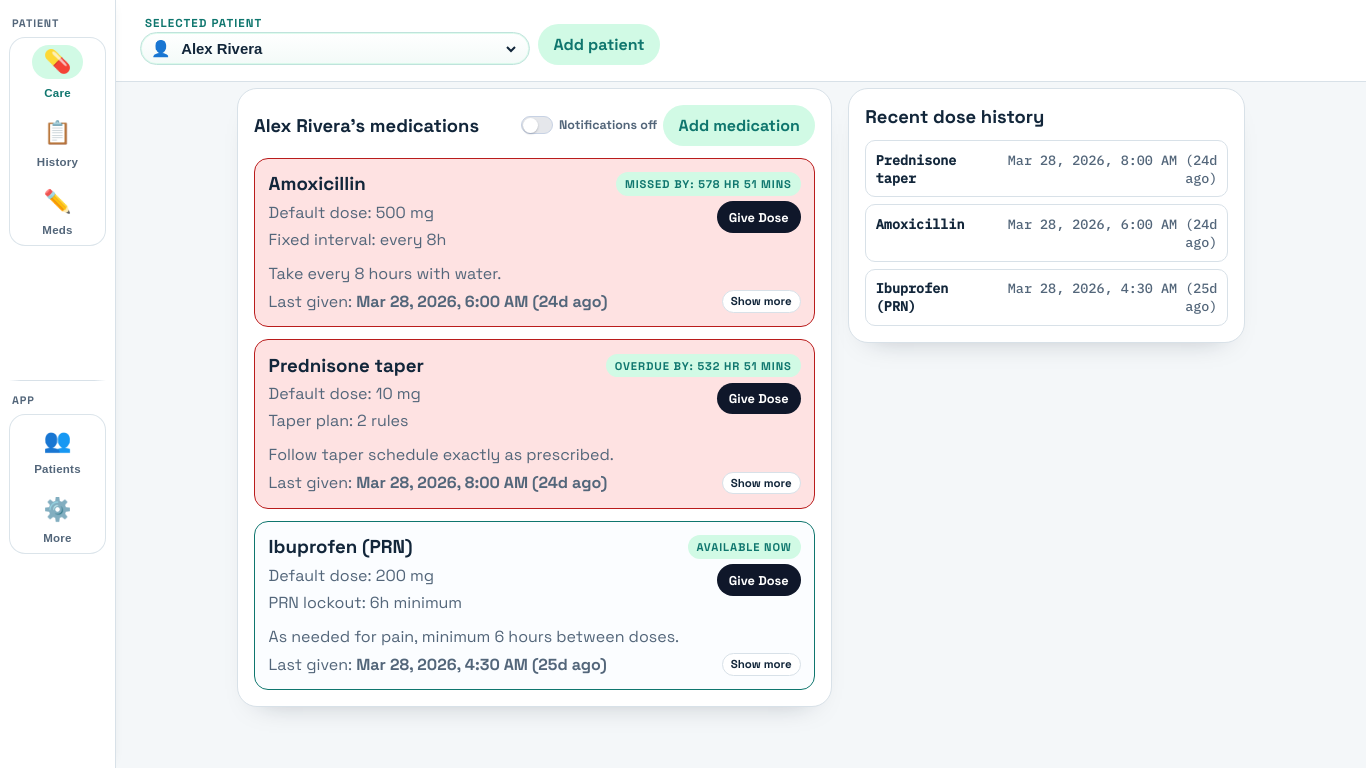
Scenario: App workspace mode flow › shows session activity and signs out other devices from More view
Click the button with test id "tab-more": (58, 518) top-left (12, 486), bottom-right (103, 551)
(page scrolled)
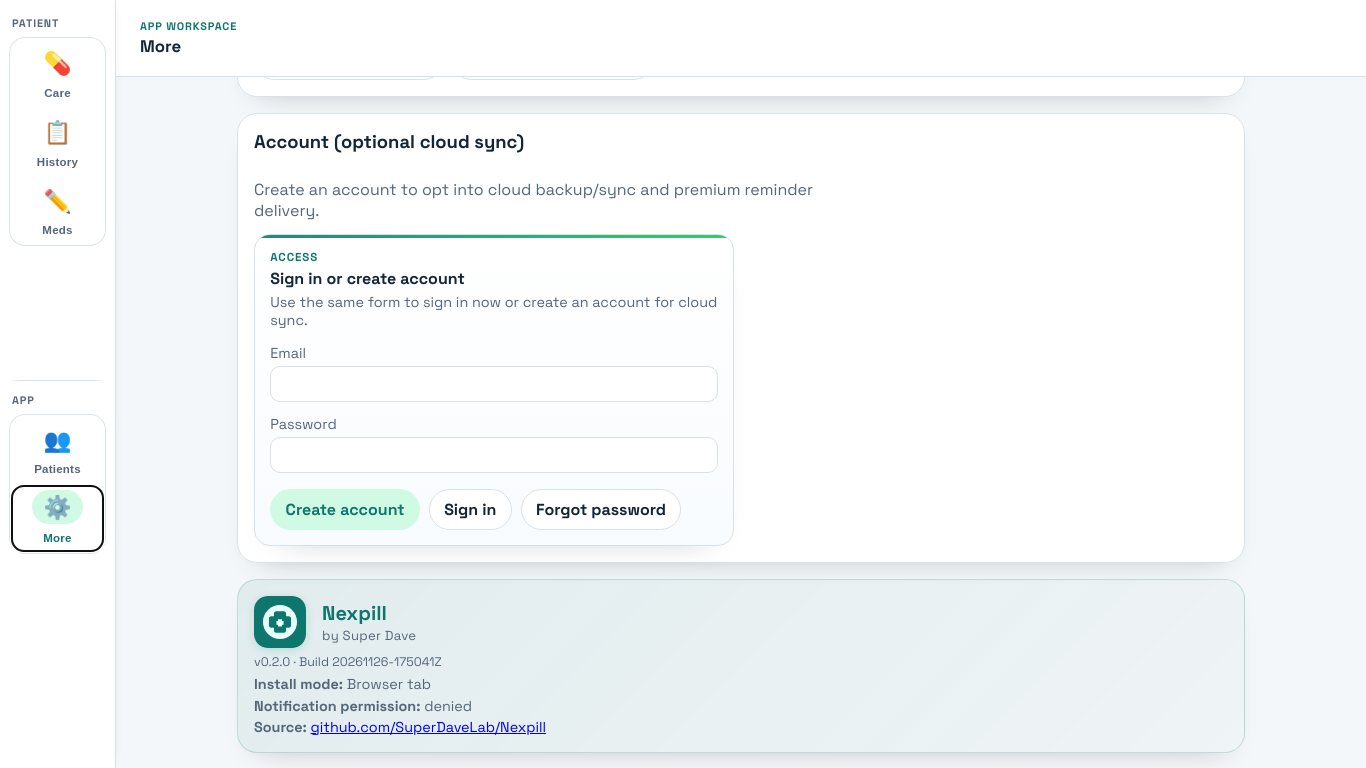
In the field with test id "auth-email-input": (494, 384) top-left (270, 366), bottom-right (718, 402), type "caregiver@example.com"
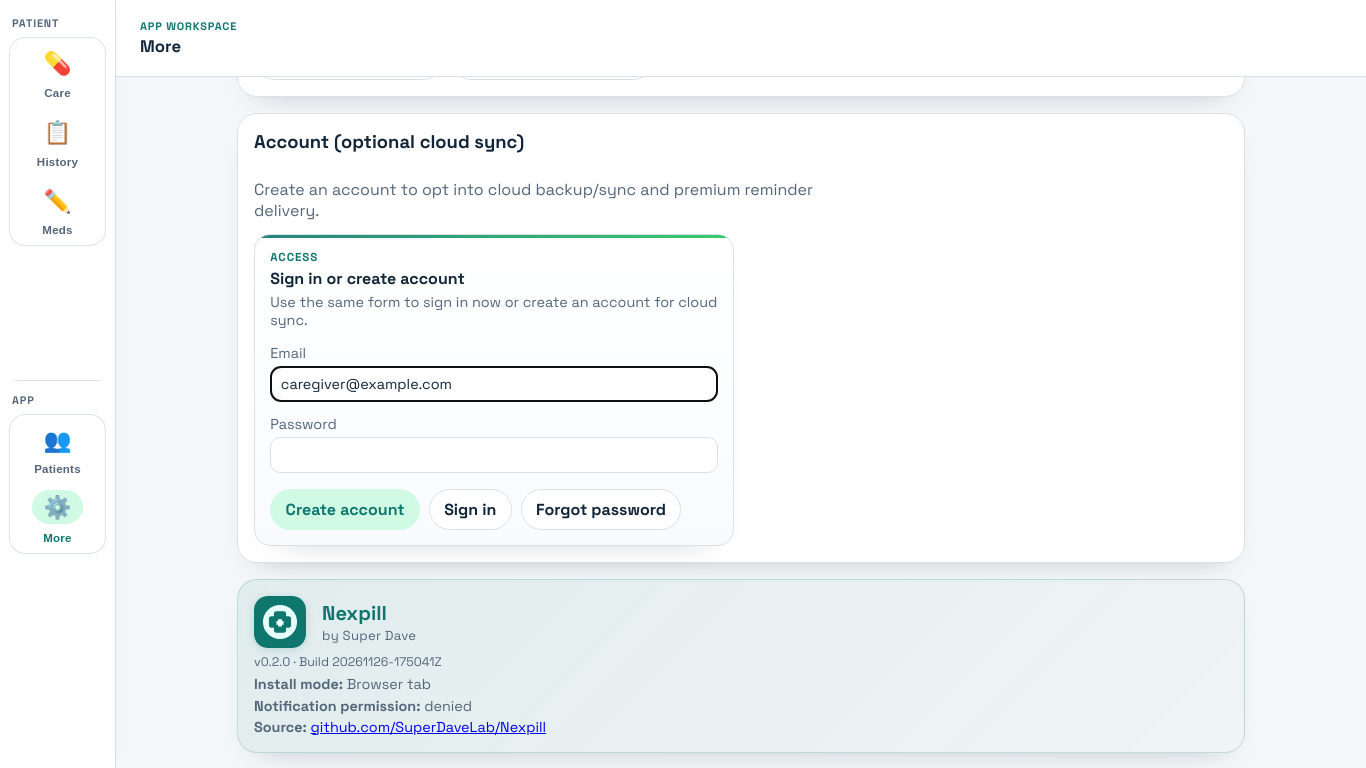
In the password field with test id "auth-password-input": (494, 455) top-left (270, 437), bottom-right (718, 473), type "password123"
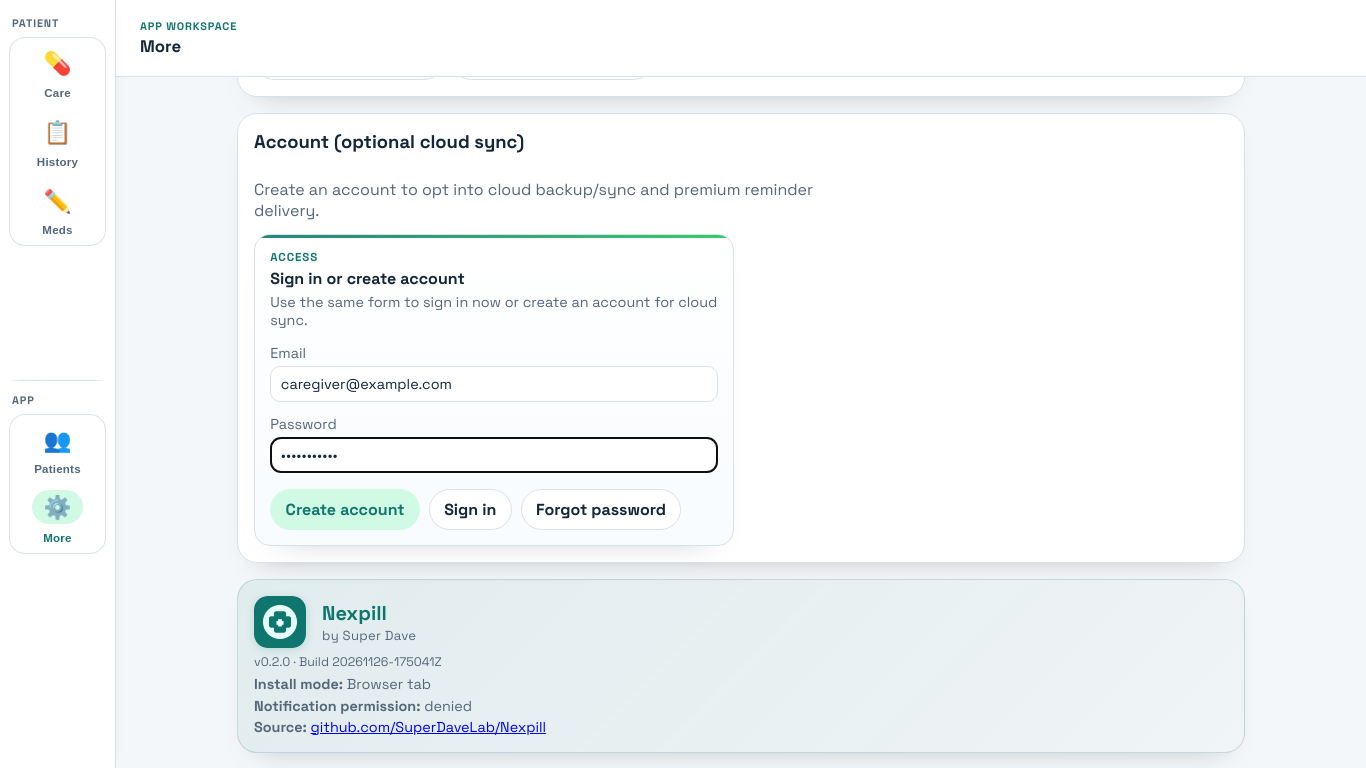
Click the button with test id "sign-in-button": (470, 510) top-left (429, 489), bottom-right (512, 530)
(page scrolled)
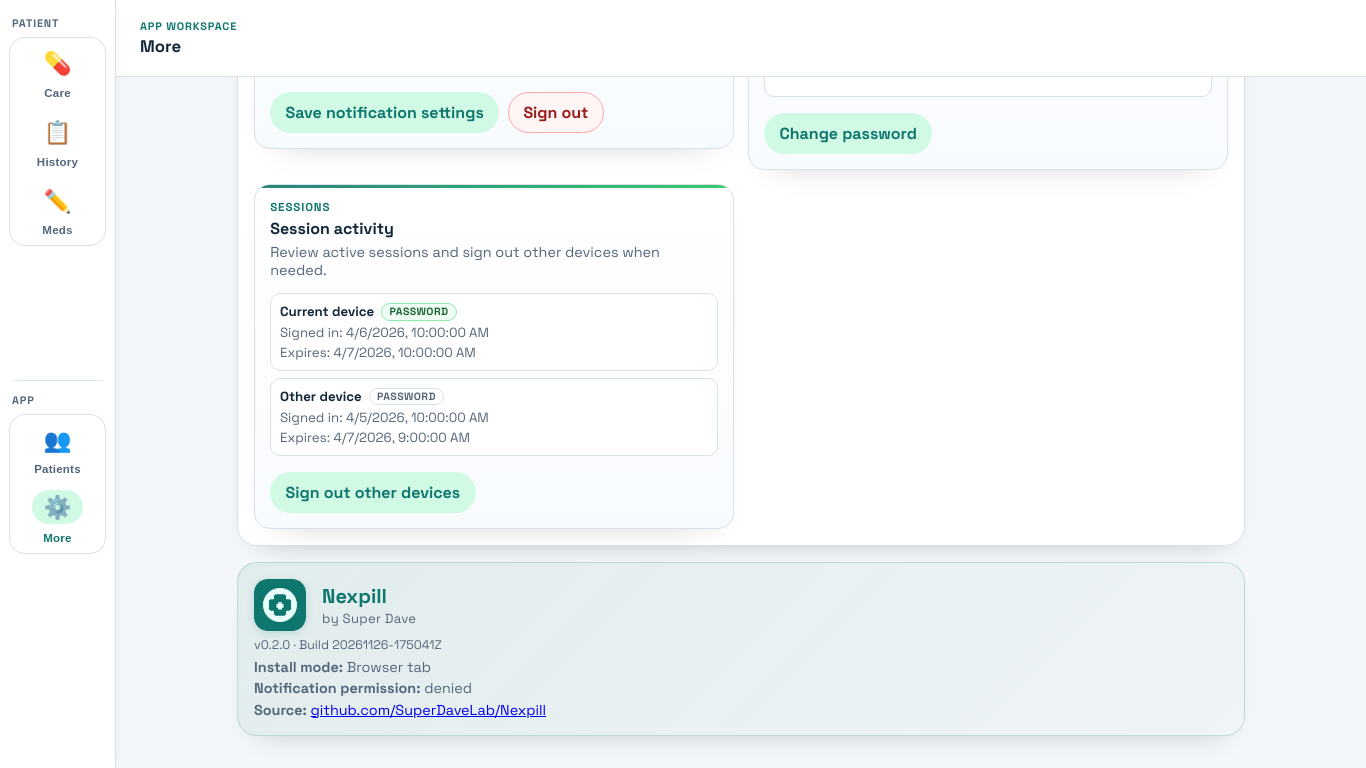
Check: the element with test id "account-sessions-panel" is shown, box top-left (254, 184), bottom-right (734, 529)
Check: the text "Other device" is shown, box top-left (280, 388), bottom-right (362, 405)
Click the button with test id "revoke-other-sessions-button": (373, 493) top-left (270, 472), bottom-right (476, 513)
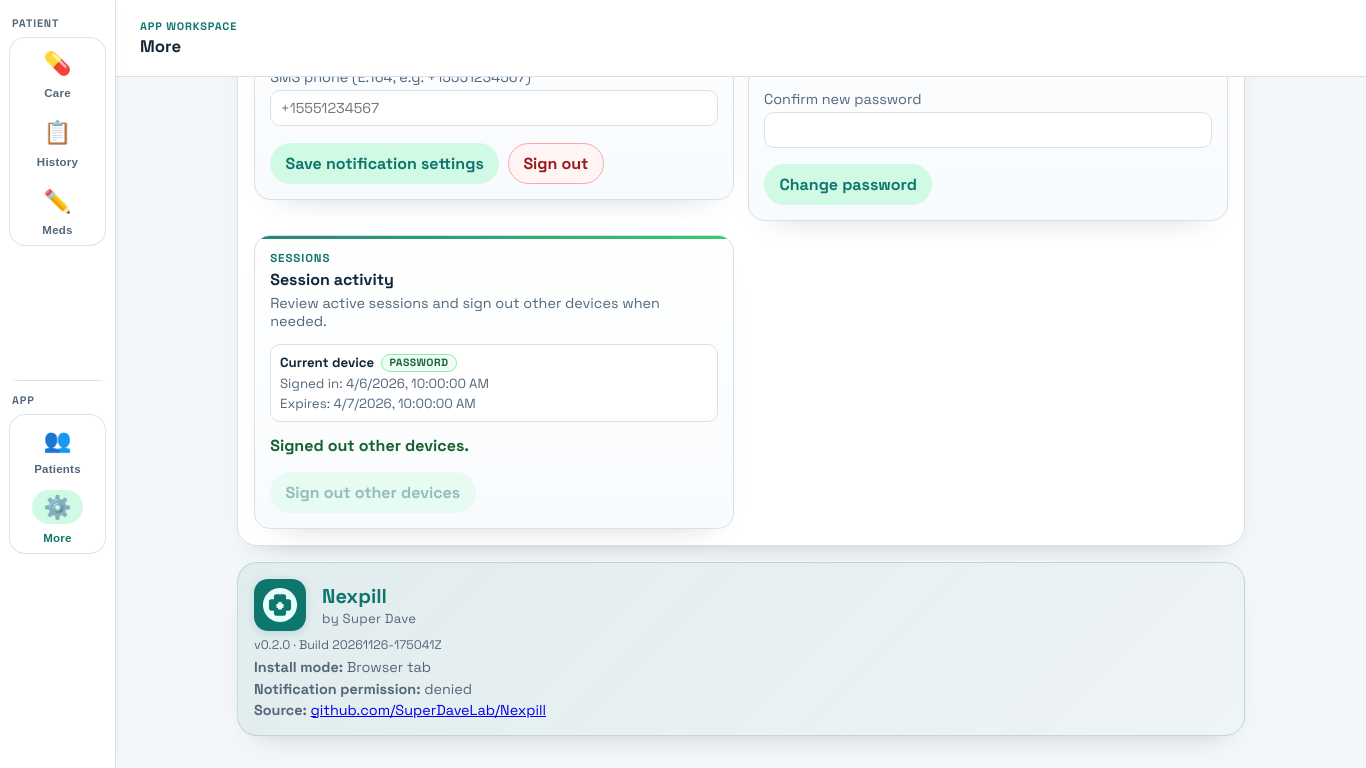
Check: the text "Signed out other devices." is shown, box top-left (270, 435), bottom-right (469, 456)
